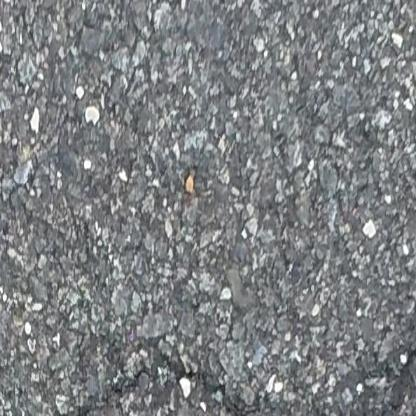Cracks: (0, 335, 227, 416), (323, 338, 416, 416)
